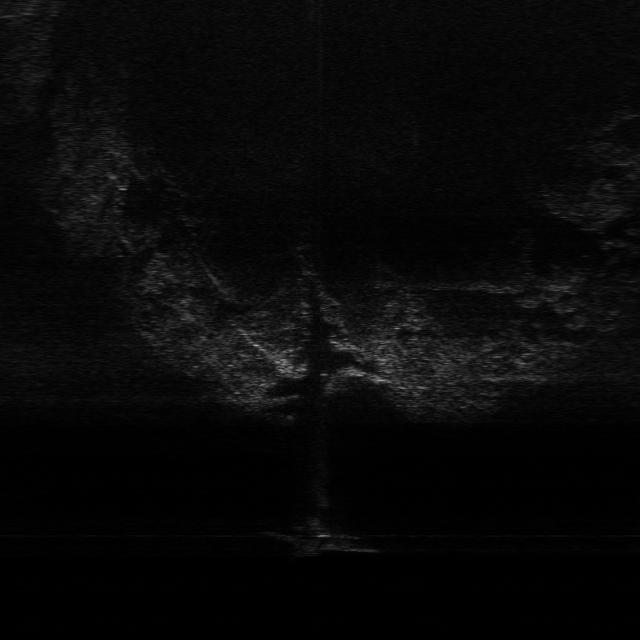plane: (264, 514, 384, 555)
